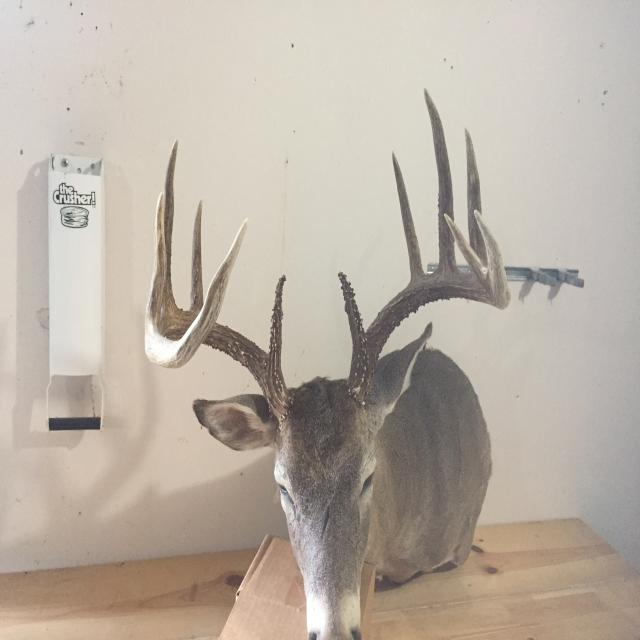L-F: (345, 208, 511, 407)
L-G1: (337, 270, 367, 357)
L-G2: (392, 150, 425, 282)
R-G1: (267, 274, 287, 366)
R-G2: (190, 199, 203, 312)
R-G4: (144, 191, 167, 336)
